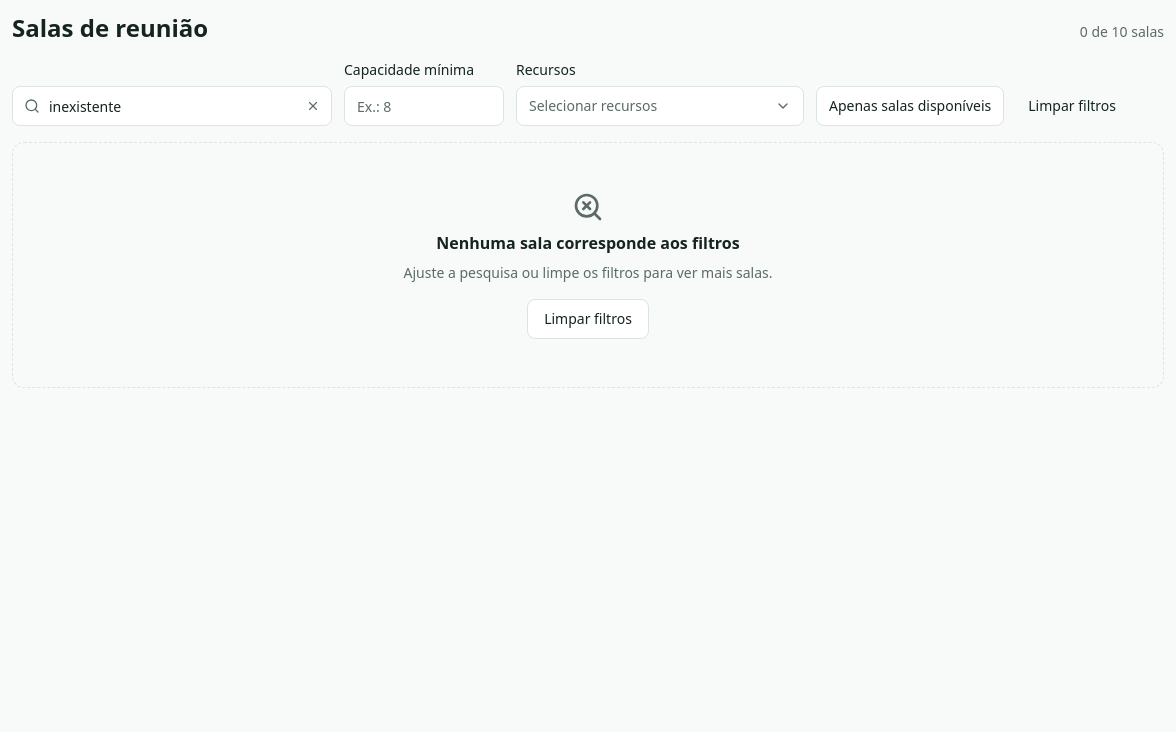
Test case: Home (rooms listing) › shows the filtered empty state and clears filters from it
Step 1. Click the button "Limpar filtros" below "Nenhuma sala corresponde aos filtros" → (588, 319), box [527,299,649,339]
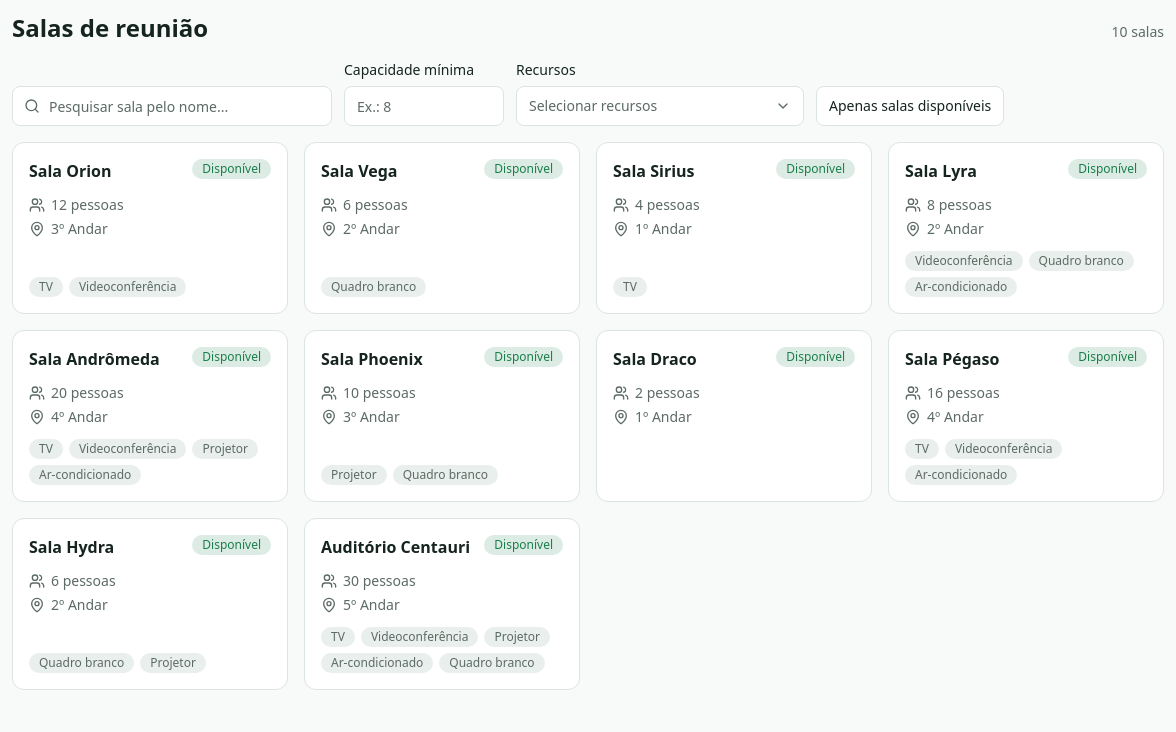
expect the text "10 salas" is shown: met, box [1112,22,1164,42]
expect the heading "Sala Orion" is shown: met, box [29,159,112,183]
